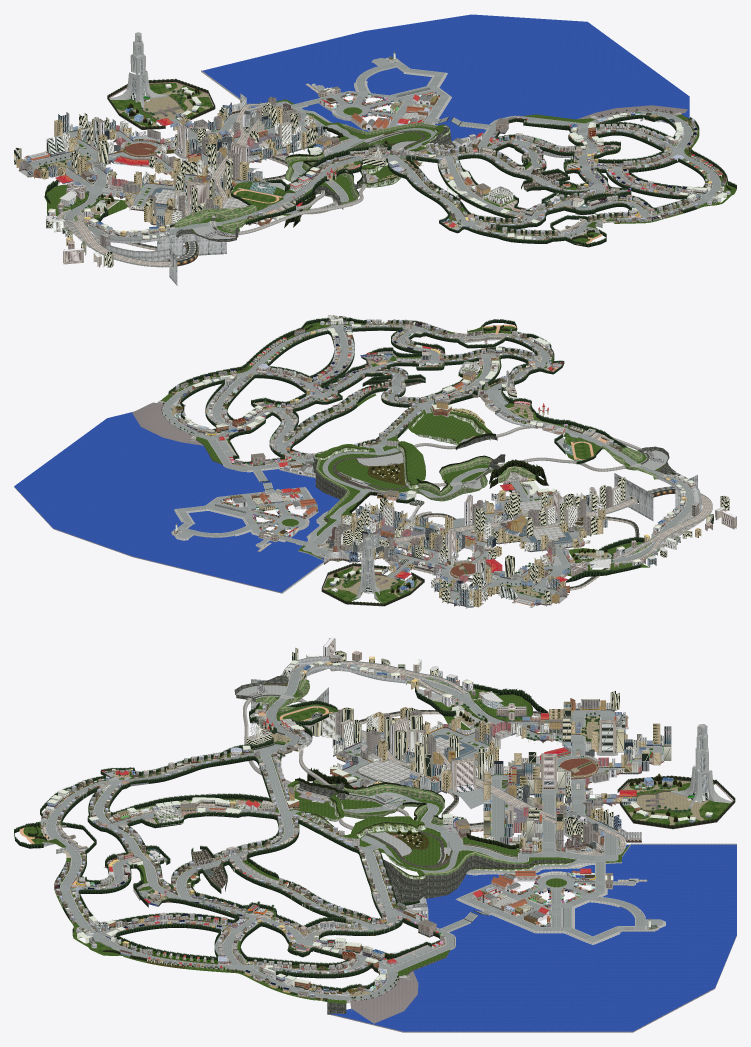
Rendered from original-city.glb.
3 views of the same model, one above another, from view 1: azimuth 30°, elevation 25°; view 2: azimuth 150°, elevation 25°; view 3: azimuth 270°, elevation 25° (orthographic). The views are drawn at different scales.
Visible parts, largest first — view 1: original-city; view 2: original-city; view 3: original-city.
Boxes of the visible parts, x1=… form: original-city: x1=14, y1=14, x2=736, y2=285; original-city: x1=14, y1=315, x2=736, y2=608; original-city: x1=14, y1=637, x2=736, y2=1032.
Size of the model in its own units: 23456 by 3432 by 19819.
Materials: 317 (315 with a texture image).
